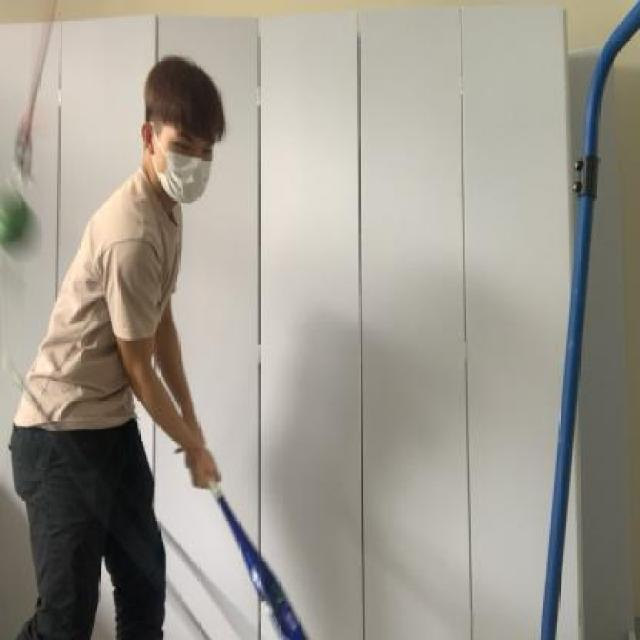baseball: (0, 184, 45, 262)
